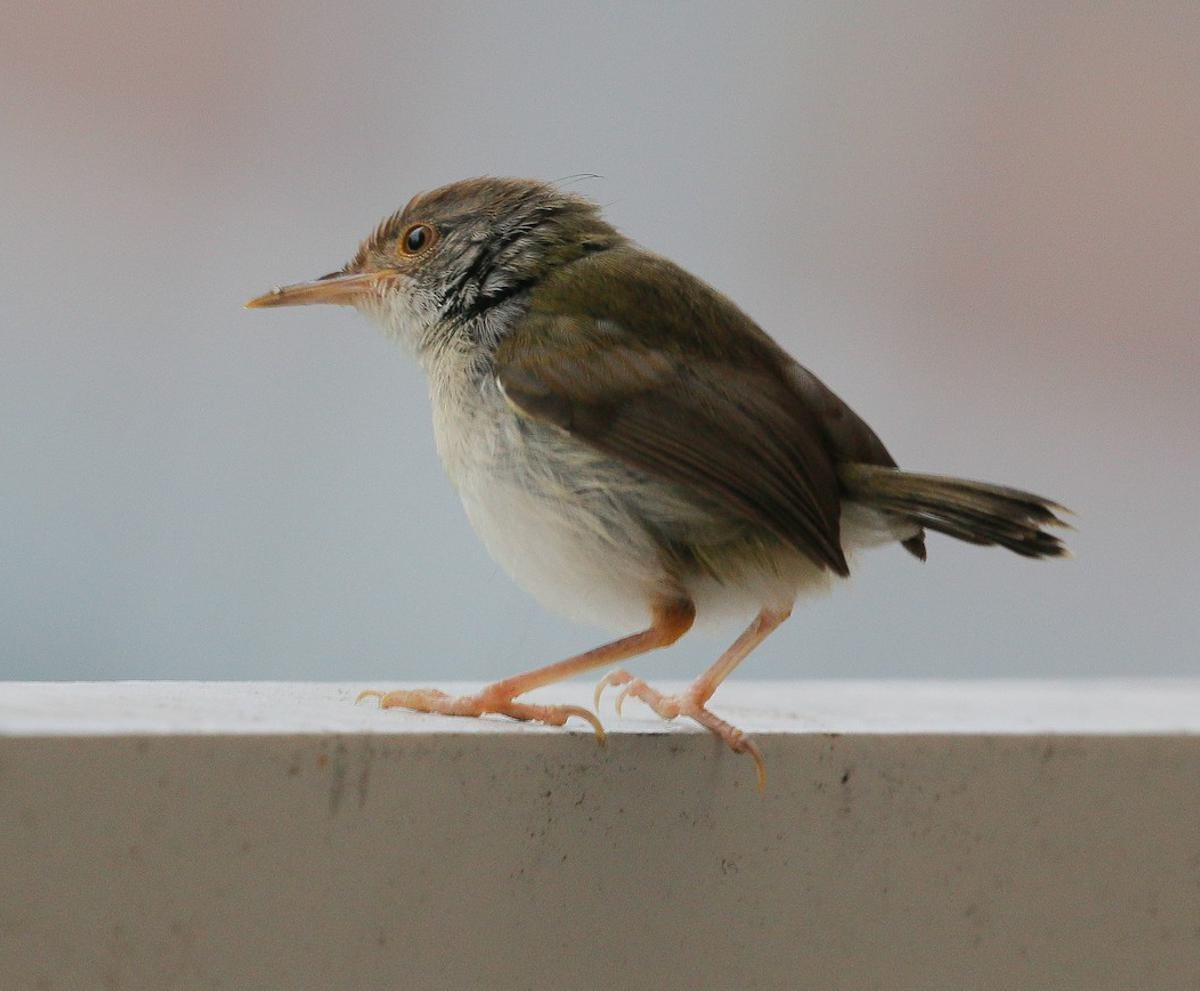tailorbird: (256, 161, 1043, 729)
